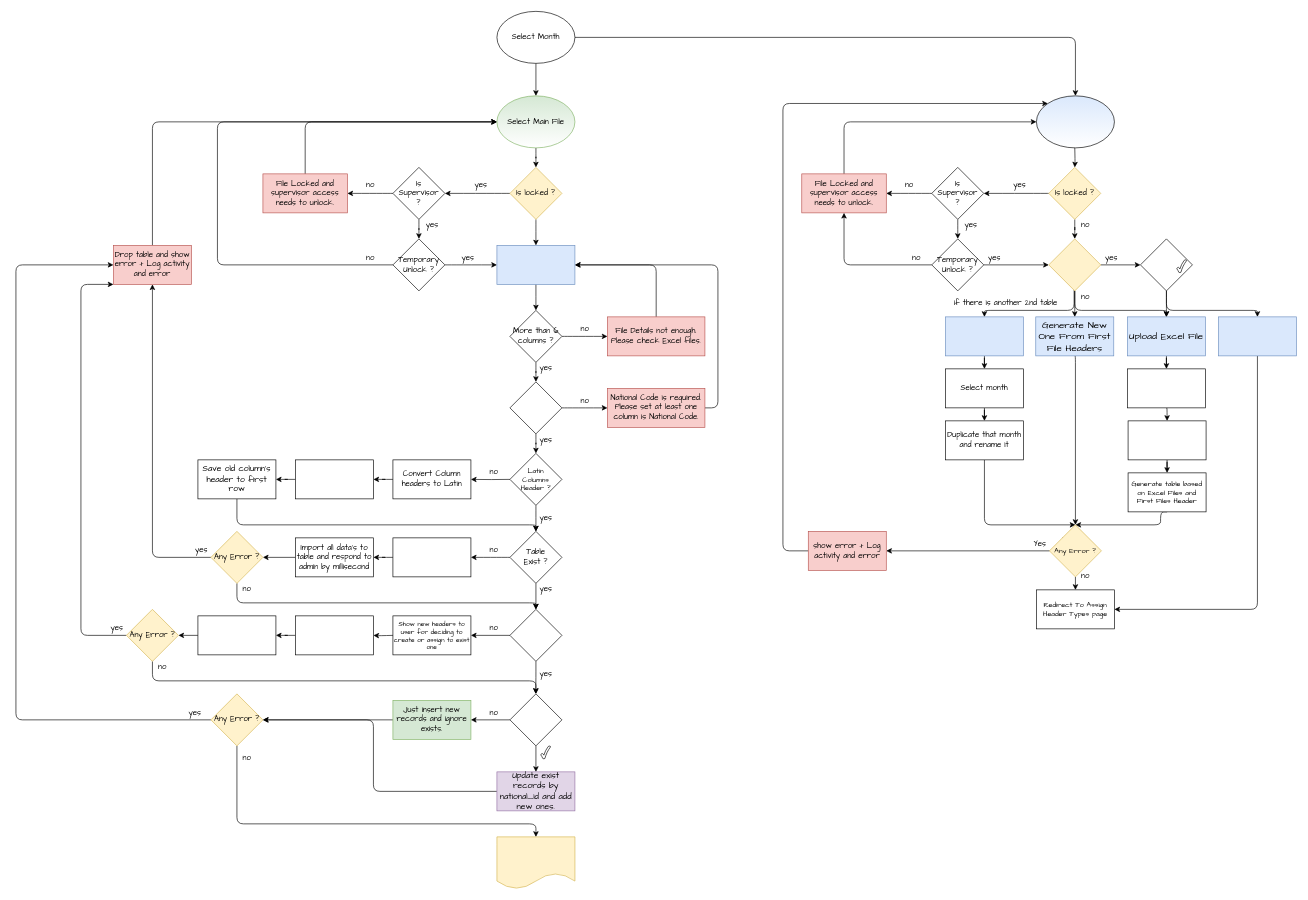
Some shapes in this 1308 by 900 pixel diagram are drawn without their labels. The shapes that lost their labels are listed below. From the top down, each one's box as (x1, y1, x2, y2) in pixels, then its label:
(1036, 95, 1114, 148): Second File type
(496, 245, 575, 284): Main Excel Upload
(1048, 238, 1101, 291): Is Exist ?
(1140, 238, 1192, 291): Update Exist Ones?
(945, 316, 1023, 356): Like Previous month
(1218, 316, 1296, 356): Live Edit ?
(509, 381, 562, 434): Exist national_code column ?
(1127, 368, 1205, 408): Check Excel be 3 columns
(1127, 420, 1206, 460): Assign Columns to Name, Method, Code
(295, 459, 373, 499): Check MYSQL requirements for column name (uniqe,...)
(392, 537, 471, 577): Create table with time label
(197, 615, 276, 655): Create empty column with new column names
(295, 615, 373, 655): Change column name to assigned name for importing.
(509, 609, 562, 661): Is same excel headers and sql table?
(509, 693, 562, 746): Update Exist Records ?
(496, 836, 575, 889): Show Reports of imported records
